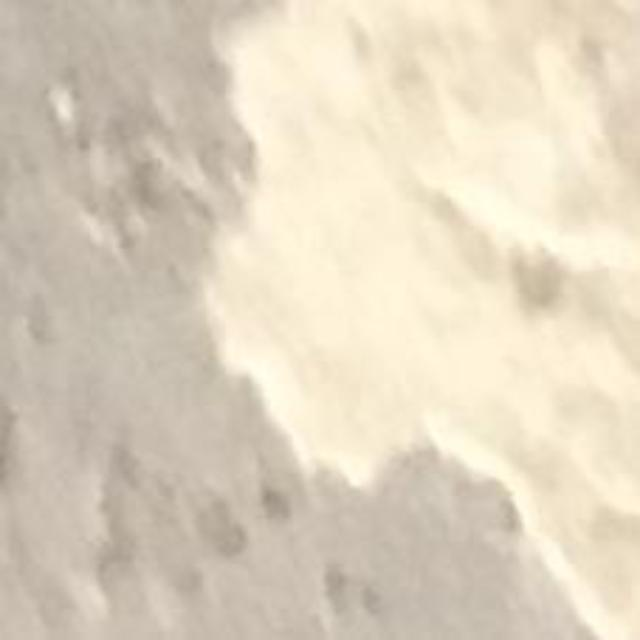peeling plaster: (212, 0, 639, 639)
